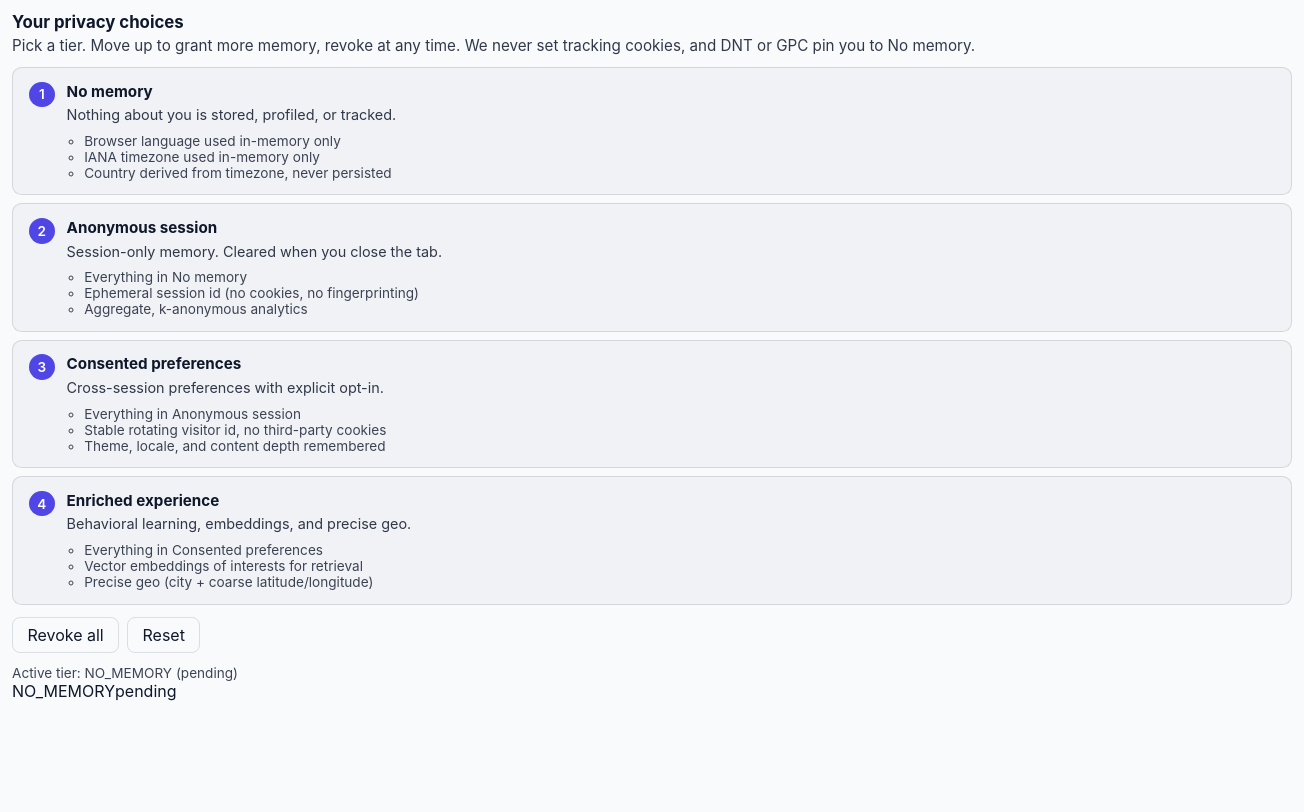
ConsentLadder › grants the chosen tier when a rung is clicked
This screenshot has width=1304, height=812.
Click the button that starts with "Consented preferences" at (652, 404), box [12, 340, 1292, 468]
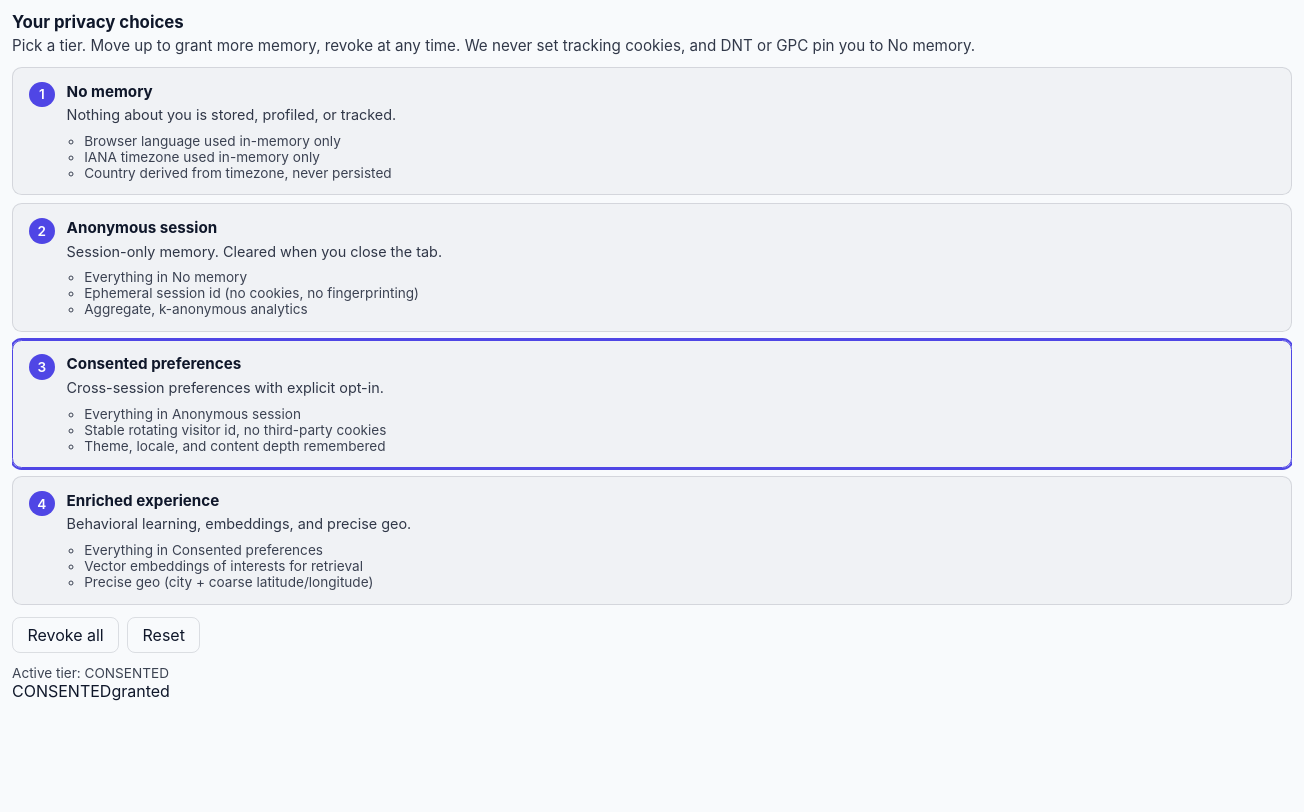
Check: the text with test id "tier" reads "CONSENTED", box [12, 681, 111, 701]
Check: the text with test id "state" reads "granted", box [111, 681, 170, 701]
